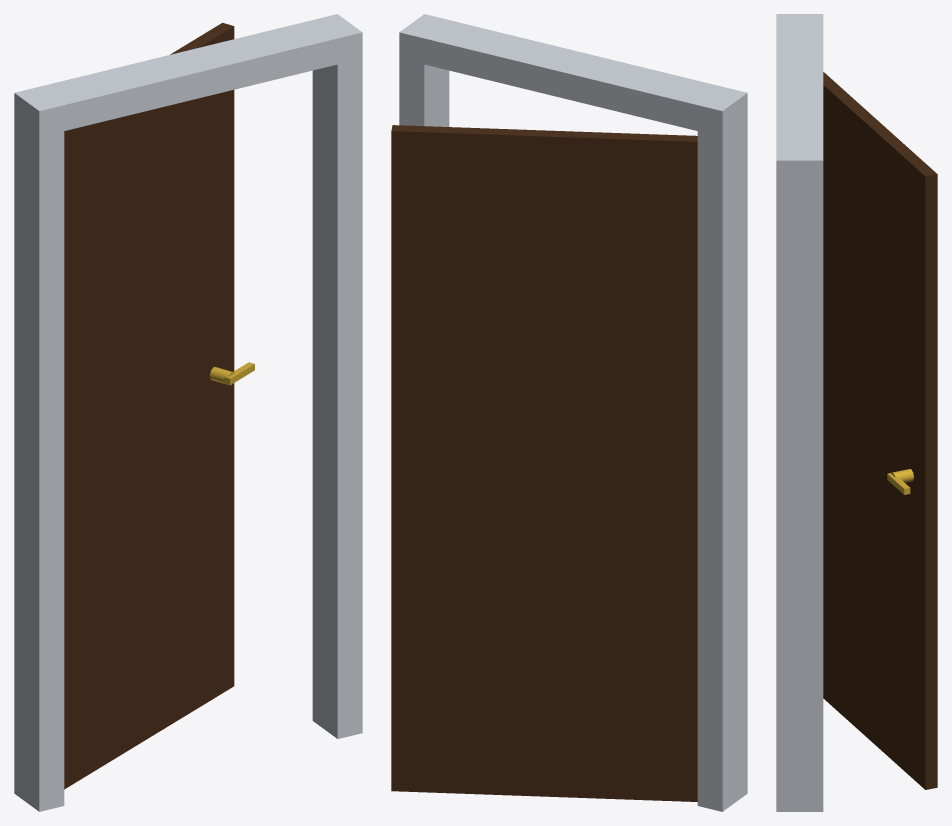
Rendered from door_frame.glb.
The picture shows the model from 3 angles, left to right: view 1: azimuth 30°, elevation 25°; view 2: azimuth 150°, elevation 25°; view 3: azimuth 270°, elevation 25°; orthographic projection. The views are drawn at different scales.
Parts seen in each view (by area): view 1: Door; view 2: Door; view 3: Door.
Part boxes in pixels (box(x1,y1,x2,y2)): Door: box(14, 14, 362, 811); Door: box(391, 14, 747, 811); Door: box(776, 14, 937, 811).
Bounding box in the file's own units: 1.04 × 2.16 × 0.4828.
